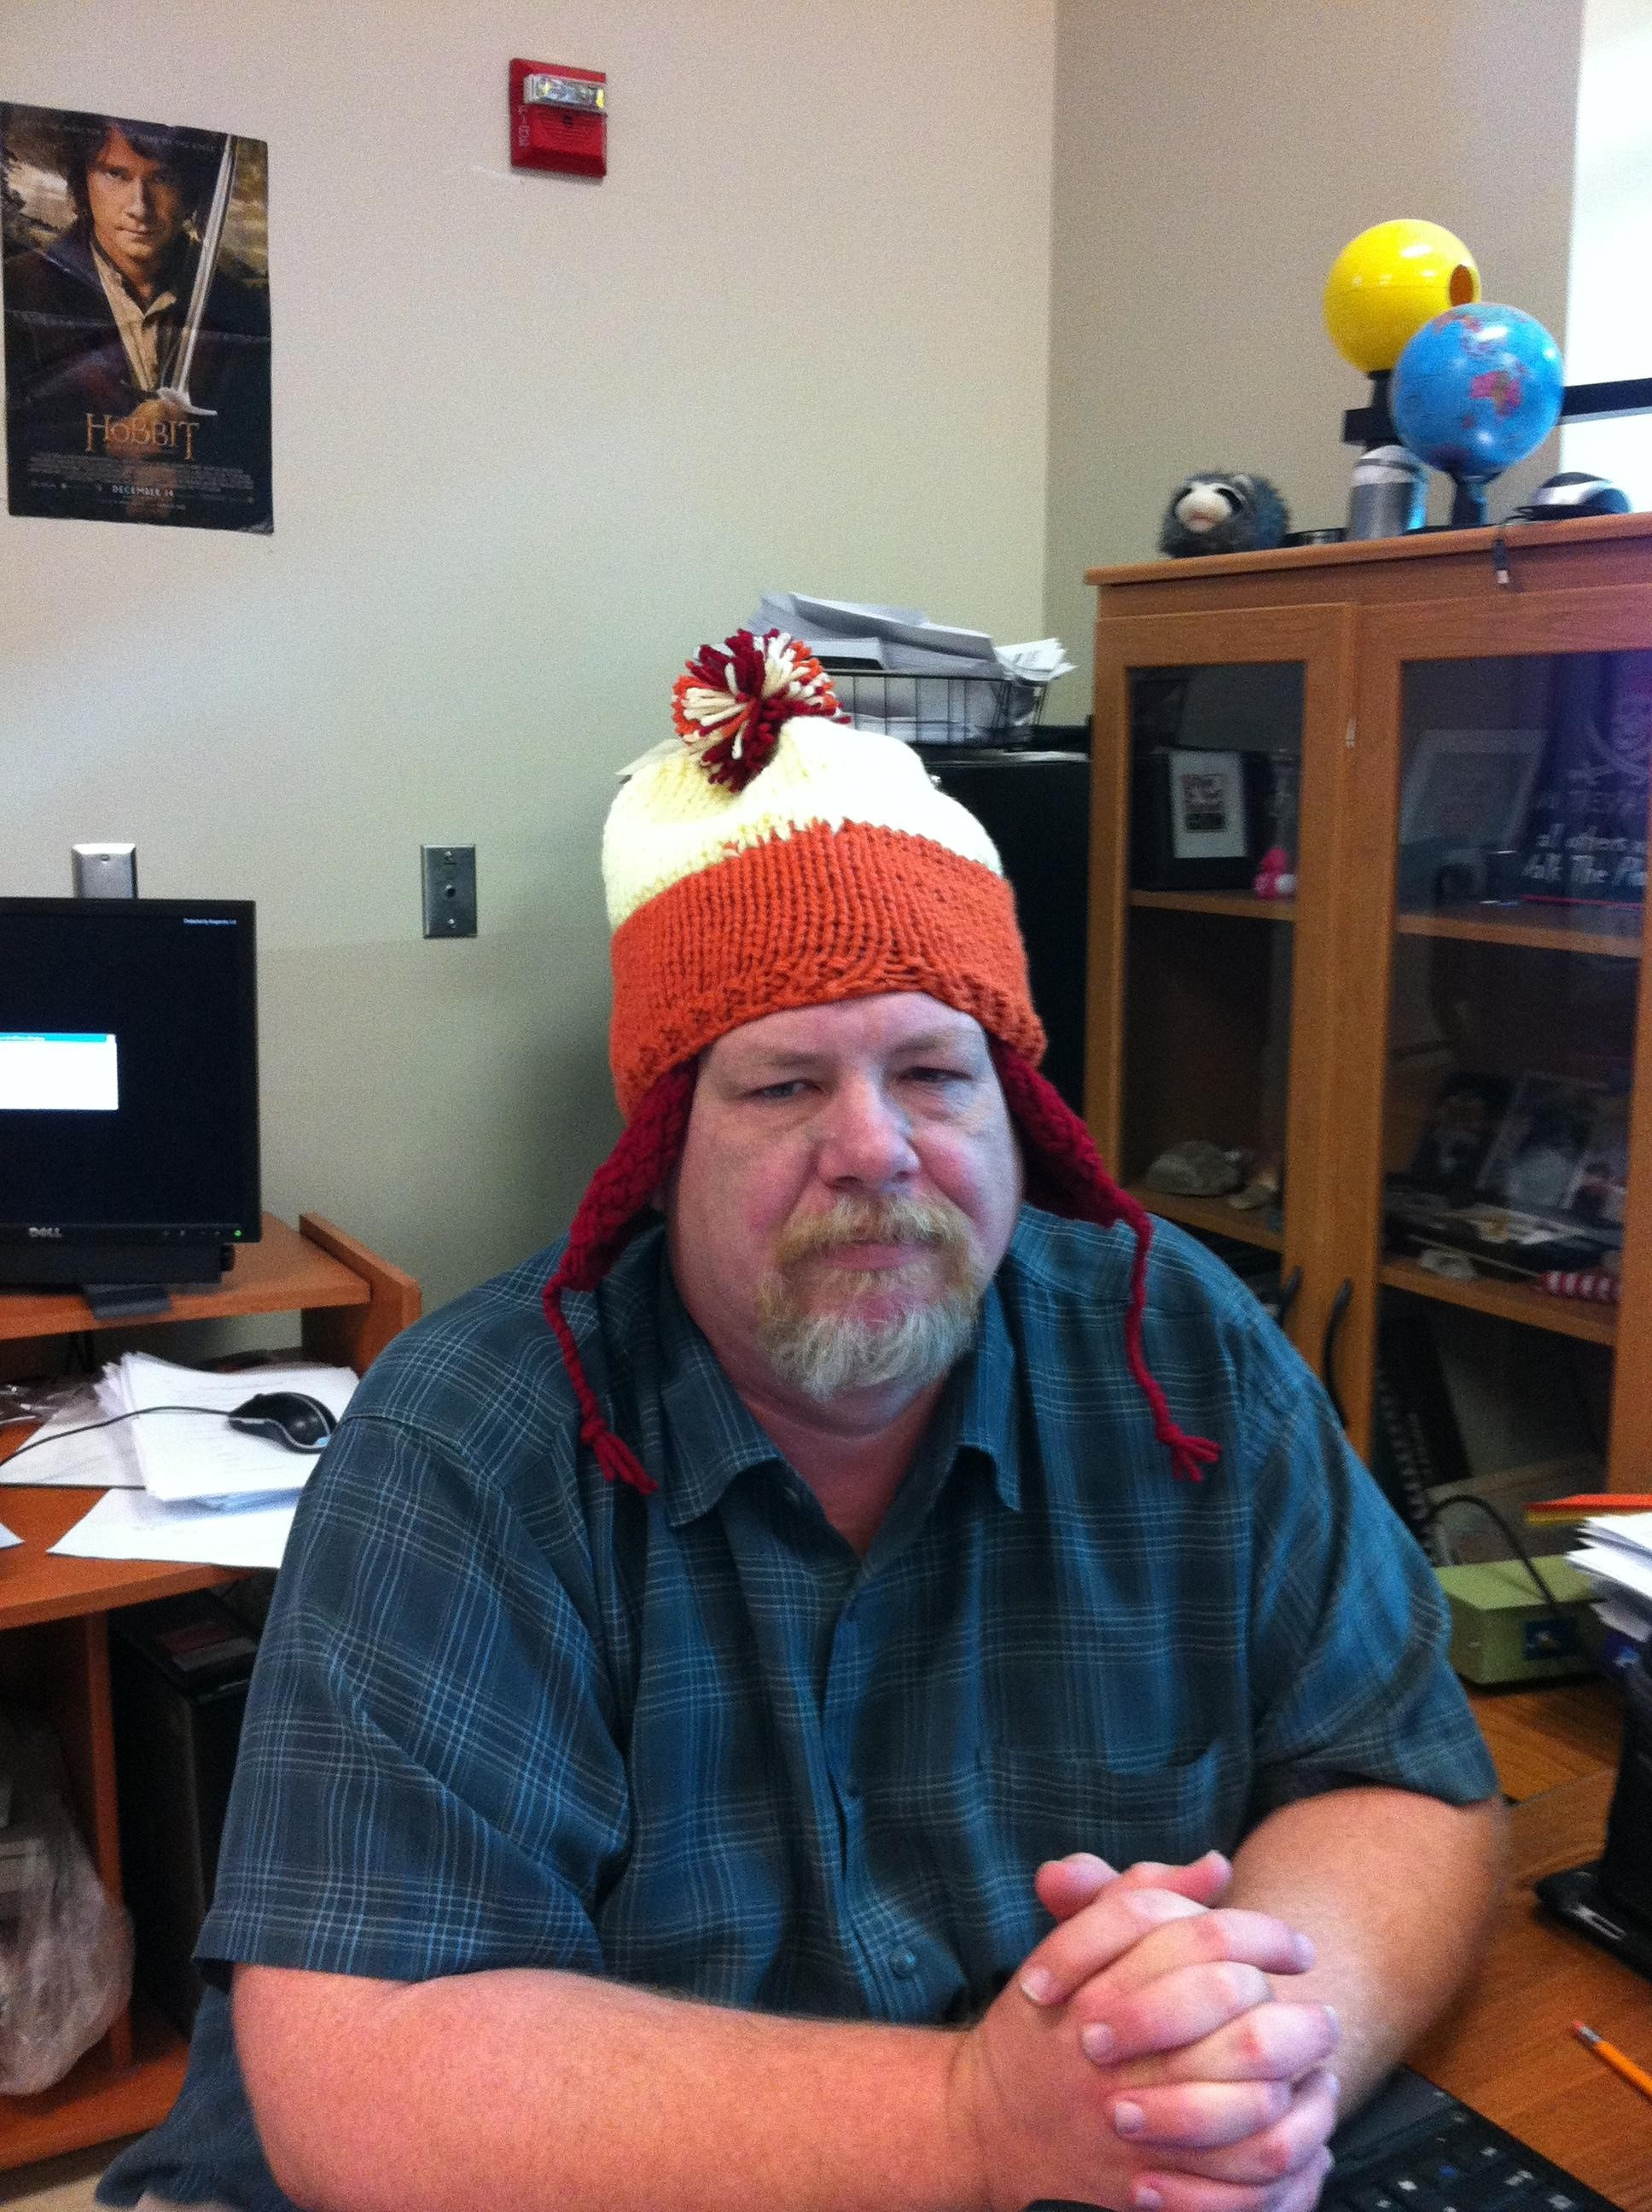face_no_mask: (633, 913, 1067, 1439)
